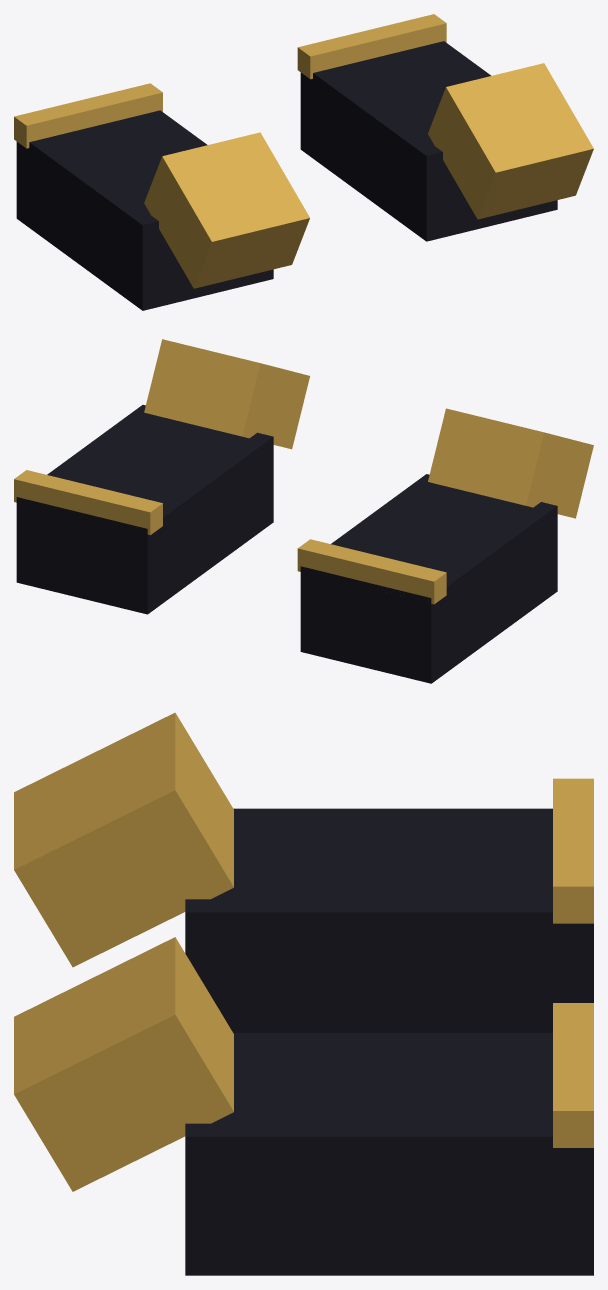
File: gear_sin_t3.glb
3 renders of one model, top to bottom at view 1: azimuth 30°, elevation 25°; view 2: azimuth 150°, elevation 25°; view 3: azimuth 270°, elevation 25°, orthographic. The views are drawn at different scales.
Visible parts, largest first — view 1: gear_sin_t3; view 2: gear_sin_t3; view 3: gear_sin_t3.
Boxes of the visible parts, bbox=[...] form: gear_sin_t3: bbox=[14, 14, 593, 310]; gear_sin_t3: bbox=[14, 339, 593, 683]; gear_sin_t3: bbox=[14, 712, 593, 1275].
Bounding box in the file's own units: 0.385 × 0.1339 × 0.2839.
